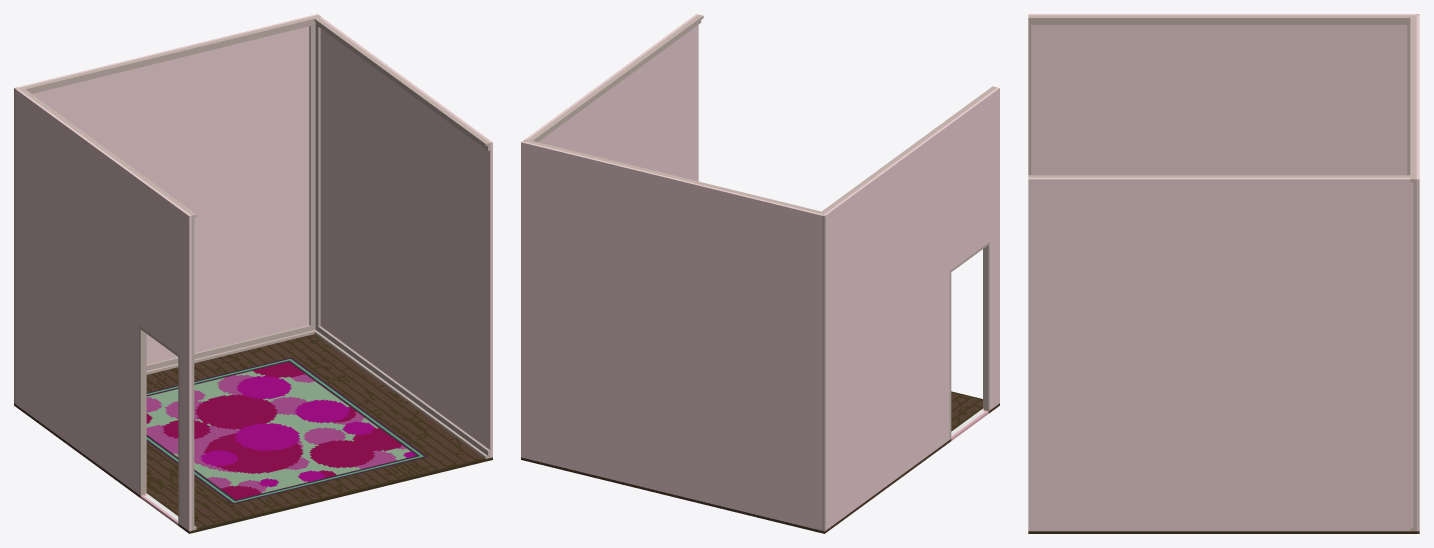
File: room.obj
3 views of the same model, side by side, from view 1: azimuth 30°, elevation 25°; view 2: azimuth 150°, elevation 25°; view 3: azimuth 270°, elevation 25° (orthographic). The views are drawn at different scales.
Parts seen in each view (by area): view 1: room; view 2: room; view 3: room.
Boxes of the visible parts, x1,y1,x2,y2 form: room: (14,14,492,533); room: (521,14,999,533); room: (1028,14,1419,533).
Bounding box in the file's own units: 126 × 126 × 126.
